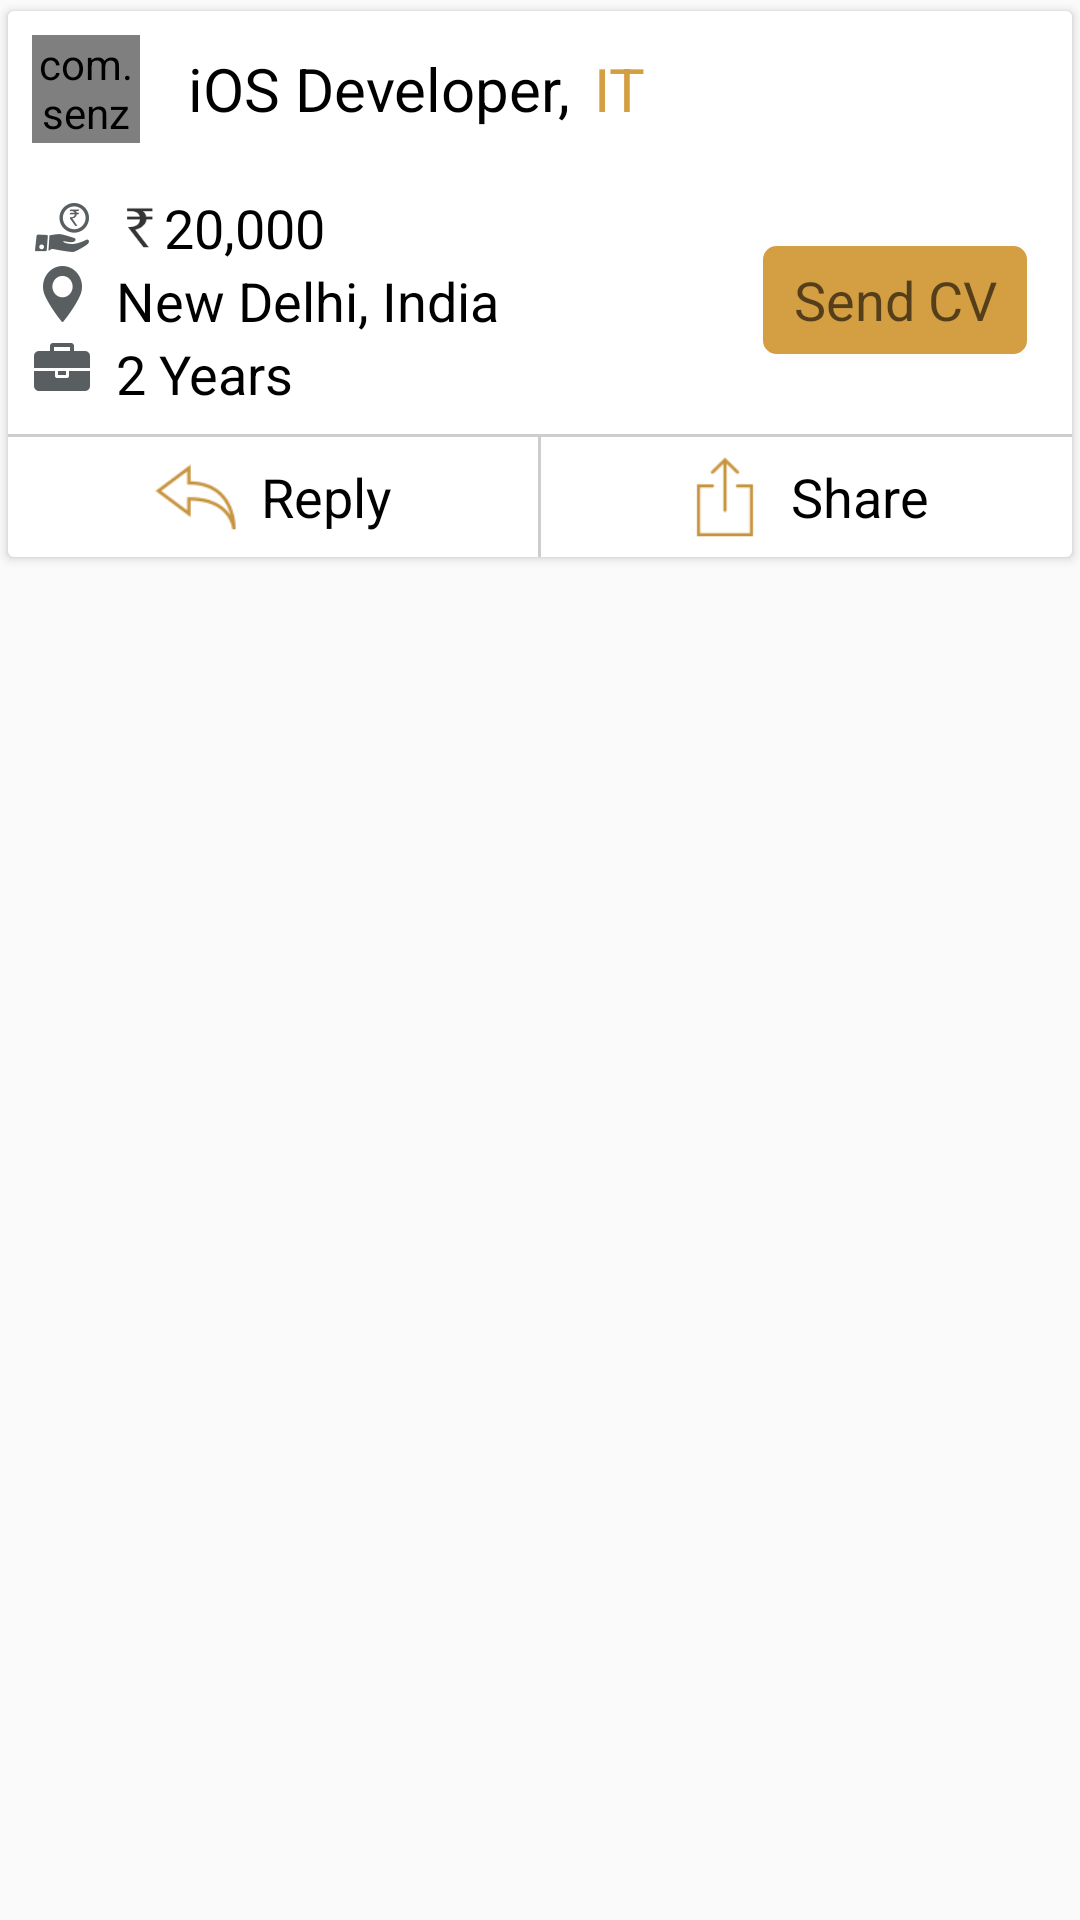

Icon click points for this 1080×1920 phone screenshot, format [x,y]:
job box: [62,367]
location: [62,294]
price with hand: [62,227]
rupee: [140,228]
